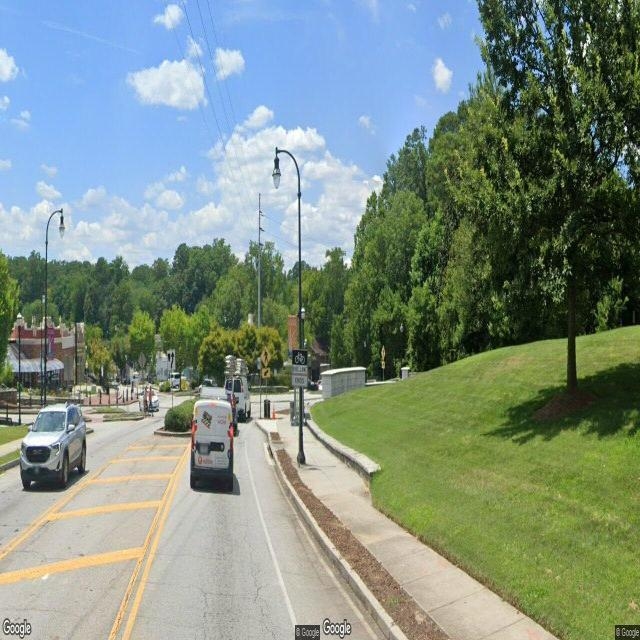shelter: (294, 384, 304, 425)
trash_can: (289, 401, 295, 423), (264, 398, 270, 418)
